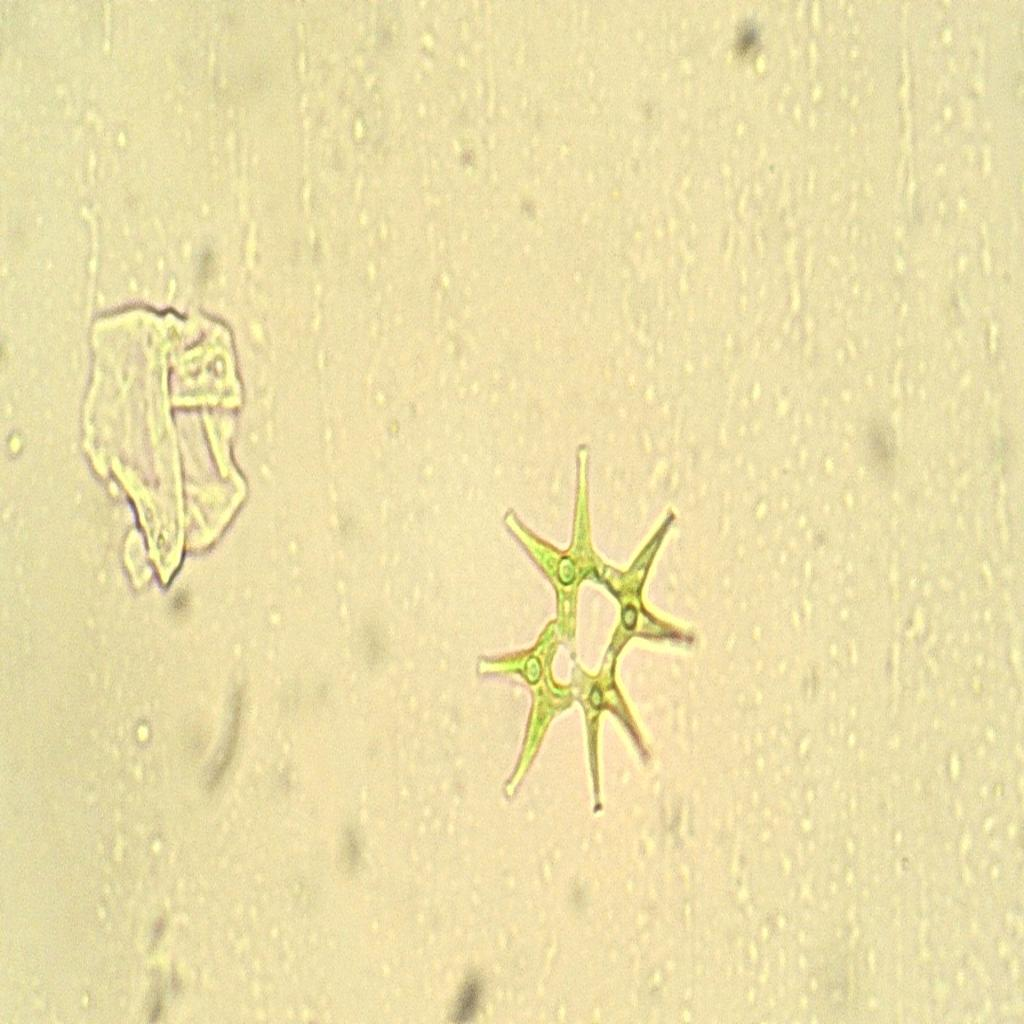Pediastrum_75FO: (468, 426, 701, 840)
